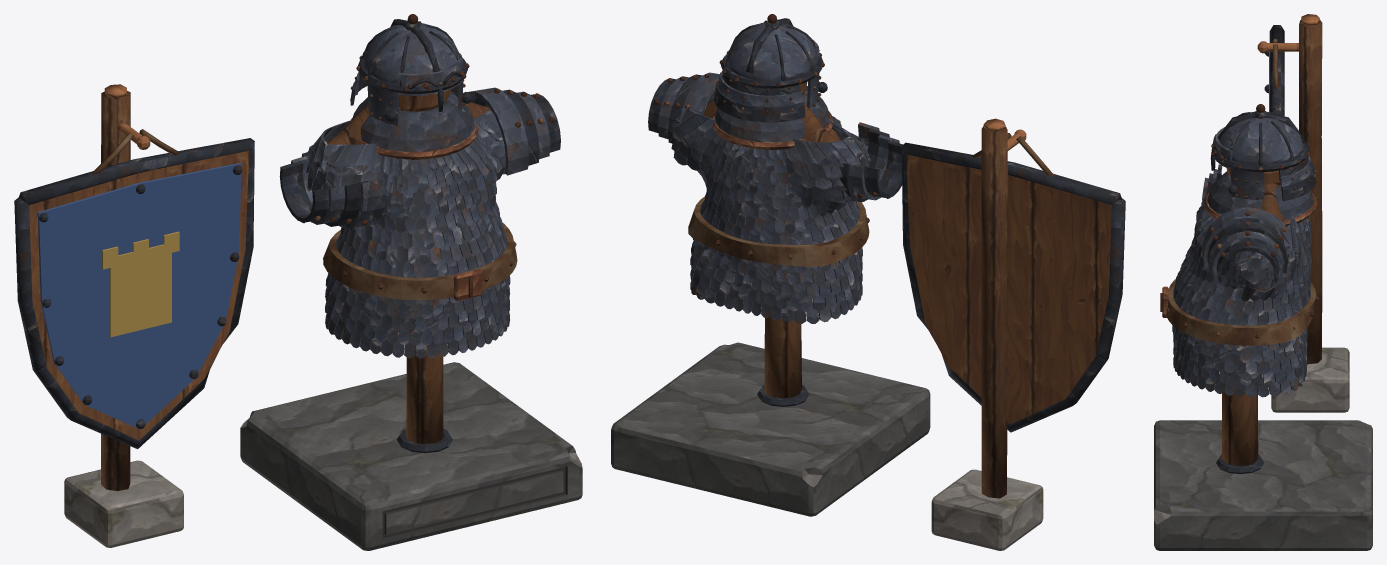
File: hs_shieldbearer_stand.glb
The picture shows the model from 3 angles, left to right: view 1: azimuth 30°, elevation 25°; view 2: azimuth 150°, elevation 25°; view 3: azimuth 270°, elevation 25°; orthographic projection. The views are drawn at different scales.
Parts seen in each view (by area): view 1: model; view 2: model; view 3: model.
Boxes of the visible parts, bbox=[...] form: model: bbox=[14, 14, 582, 550]; model: bbox=[611, 14, 1125, 550]; model: bbox=[1154, 14, 1372, 550].
Size of the model in its own units: 1.29 by 1.14 by 0.56.
15 materials, 12 textured.
